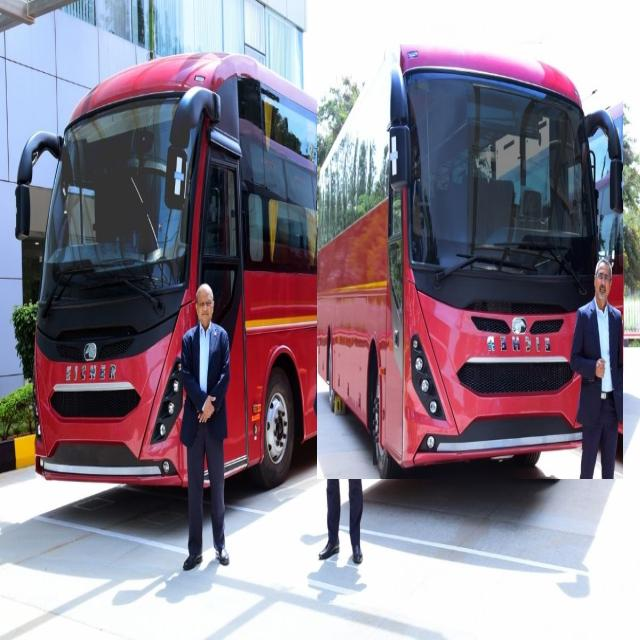bus: (16, 56, 342, 486), (318, 45, 623, 479)
